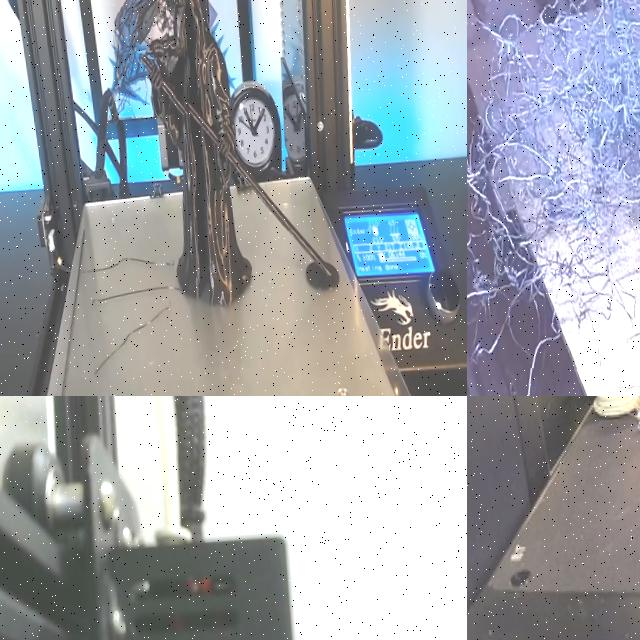spaghetti: (467, 0, 640, 396), (107, 0, 184, 120), (632, 407, 640, 431)
